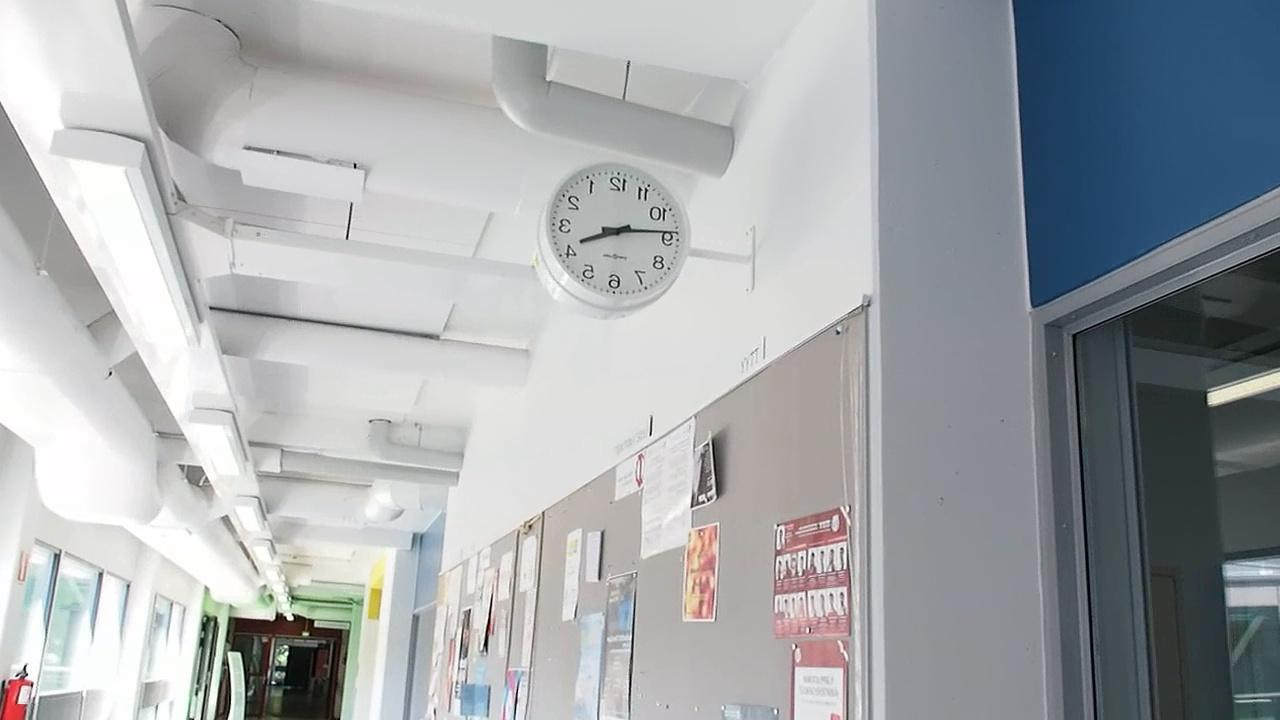clock: (535, 161, 688, 310)
